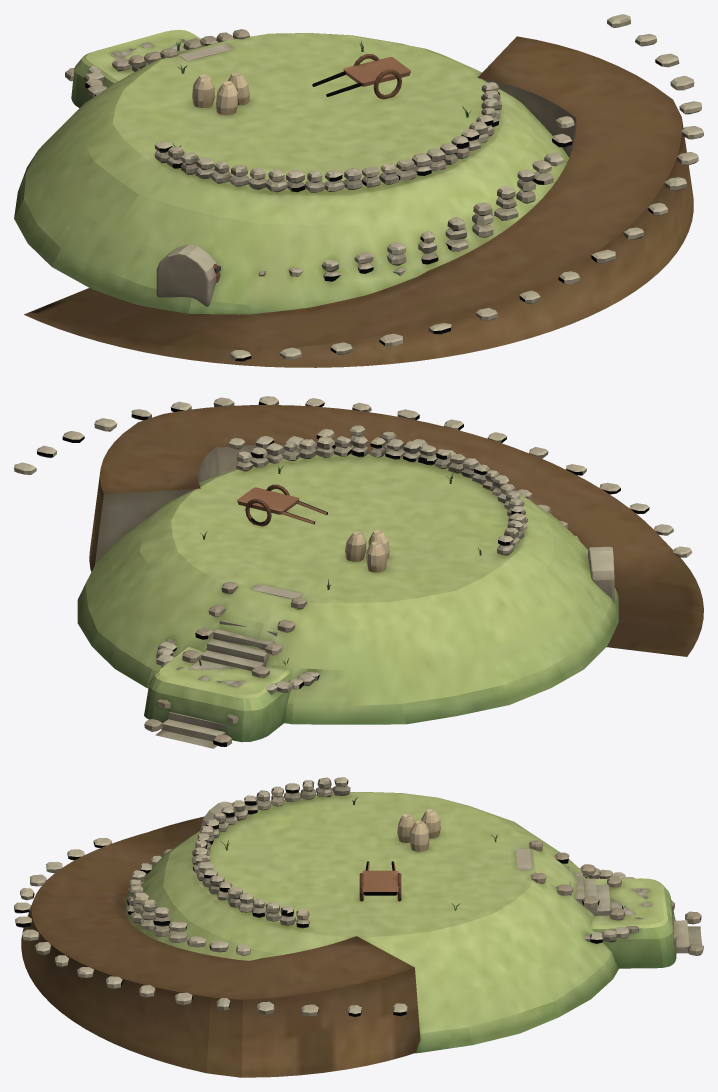
File: mill_mound.glb
3 views of the same model, one above another, from view 1: azimuth 30°, elevation 25°; view 2: azimuth 150°, elevation 25°; view 3: azimuth 270°, elevation 25° (orthographic). The views are drawn at different scales.
Visible parts, largest first — view 1: MillMound; view 2: MillMound; view 3: MillMound.
Boxes of the visible parts, x1,y1,x2,y2 form: MillMound: (14, 14, 703, 367); MillMound: (14, 396, 703, 748); MillMound: (14, 777, 703, 1077).
Bounding box in the file's own units: 16.74 × 2.84 × 16.8.
Materials: 2 (1 with a texture image).
